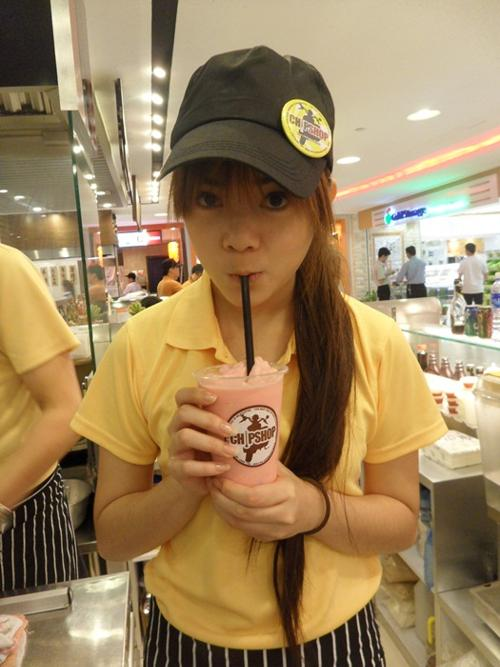person: (71, 43, 452, 667)
